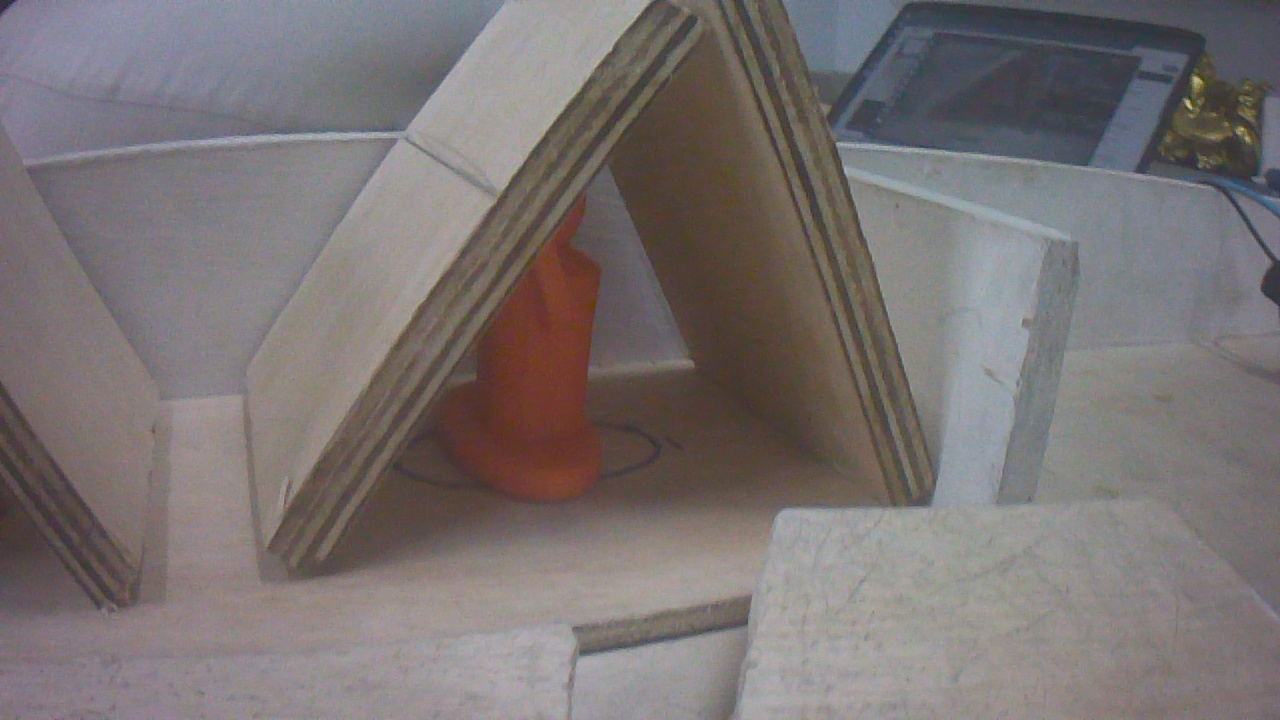real: (432, 171, 616, 502)
